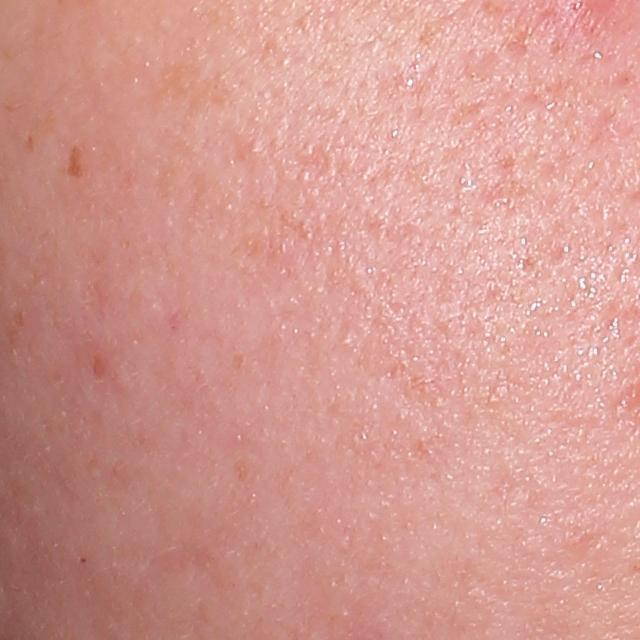melasma: (59, 137, 90, 188)
